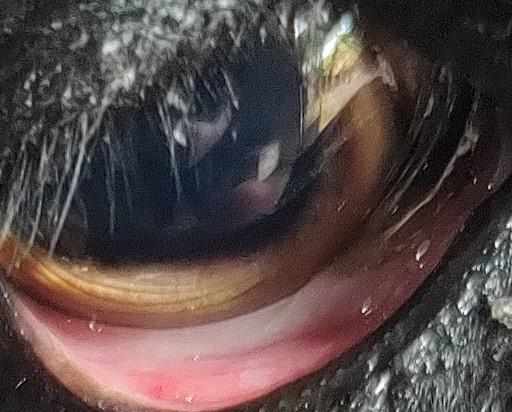eye_membrane: (7, 52, 508, 412)
